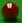brown: (0, 0, 22, 23)
